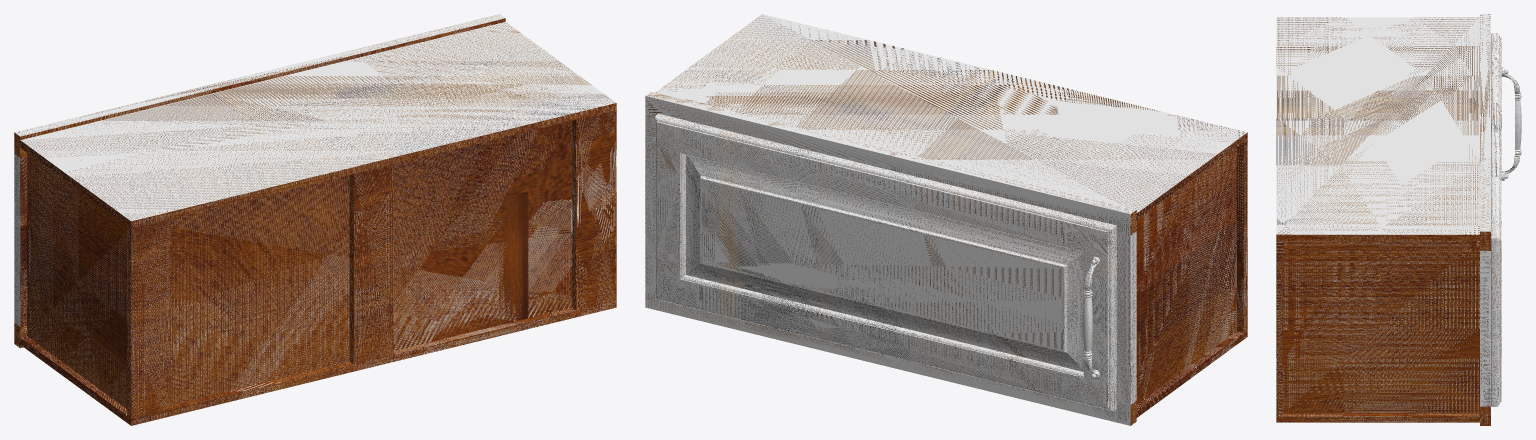
3 views of the same model, side by side, from view 1: azimuth 30°, elevation 25°; view 2: azimuth 150°, elevation 25°; view 3: azimuth 270°, elevation 25° (orthographic). The views are drawn at different scales.
Visible parts, largest first — view 1: mesh6_mesh6-geometry, mesh8_mesh8-geometry, mesh3_mesh3-geometry, mesh1_mesh1-geometry, mesh7_mesh7-geometry, mesh9_mesh9-geometry, mesh27_mesh27-geometry, mesh4_mesh4-geometry; view 2: mesh8_mesh8-geometry, mesh21_mesh21-geometry, mesh19_mesh19-geometry, mesh1_mesh1-geometry, mesh18_mesh18-geometry, mesh9_mesh9-geometry, mesh10_mesh10-geometry, mesh4_mesh4-geometry, mesh16_mesh16-geometry, mesh17_mesh17-geometry, mesh15_mesh15-geometry, mesh13_mesh13-geometry (+4 smaller); view 3: mesh8_mesh8-geometry, mesh2_mesh2-geometry, mesh9_mesh9-geometry, mesh7_mesh7-geometry, mesh19_mesh19-geometry, mesh4_mesh4-geometry, mesh3_mesh3-geometry, mesh16_mesh16-geometry, mesh13_mesh13-geometry, mesh12_mesh12-geometry, mesh26_mesh26-geometry.
Boxes of the visible parts, x1,y1,x2,y2 form: mesh6_mesh6-geometry: (171, 121, 572, 404); mesh8_mesh8-geometry: (20, 22, 616, 228); mesh3_mesh3-geometry: (127, 110, 616, 418); mesh1_mesh1-geometry: (27, 152, 127, 408); mesh7_mesh7-geometry: (20, 300, 616, 425); mesh9_mesh9-geometry: (14, 14, 505, 157); mesh27_mesh27-geometry: (492, 191, 528, 325); mesh4_mesh4-geometry: (14, 154, 26, 326); mesh8_mesh8-geometry: (655, 14, 1247, 220); mesh21_mesh21-geometry: (702, 180, 1062, 349); mesh19_mesh19-geometry: (702, 125, 1067, 268); mesh1_mesh1-geometry: (1136, 147, 1236, 403); mesh18_mesh18-geometry: (702, 262, 1065, 398); mesh9_mesh9-geometry: (645, 91, 1136, 235); mesh10_mesh10-geometry: (645, 286, 1136, 425); mesh4_mesh4-geometry: (645, 117, 1136, 404); mesh16_mesh16-geometry: (655, 168, 701, 261); mesh17_mesh17-geometry: (1062, 268, 1116, 360); mesh15_mesh15-geometry: (1062, 213, 1116, 279); mesh13_mesh13-geometry: (655, 113, 706, 180); mesh8_mesh8-geometry: (1276, 17, 1479, 241); mesh2_mesh2-geometry: (1283, 241, 1479, 413); mesh9_mesh9-geometry: (1480, 14, 1490, 250); mesh7_mesh7-geometry: (1276, 413, 1479, 422); mesh19_mesh19-geometry: (1491, 55, 1501, 219); mesh4_mesh4-geometry: (1480, 251, 1490, 406); mesh3_mesh3-geometry: (1276, 241, 1283, 416); mesh16_mesh16-geometry: (1491, 284, 1501, 359); mesh13_mesh13-geometry: (1491, 216, 1501, 285); mesh12_mesh12-geometry: (1491, 358, 1501, 406); mesh26_mesh26-geometry: (1515, 100, 1521, 149).
Bounding box in the file's own units: 0.8449 × 0.3521 × 0.4027.
